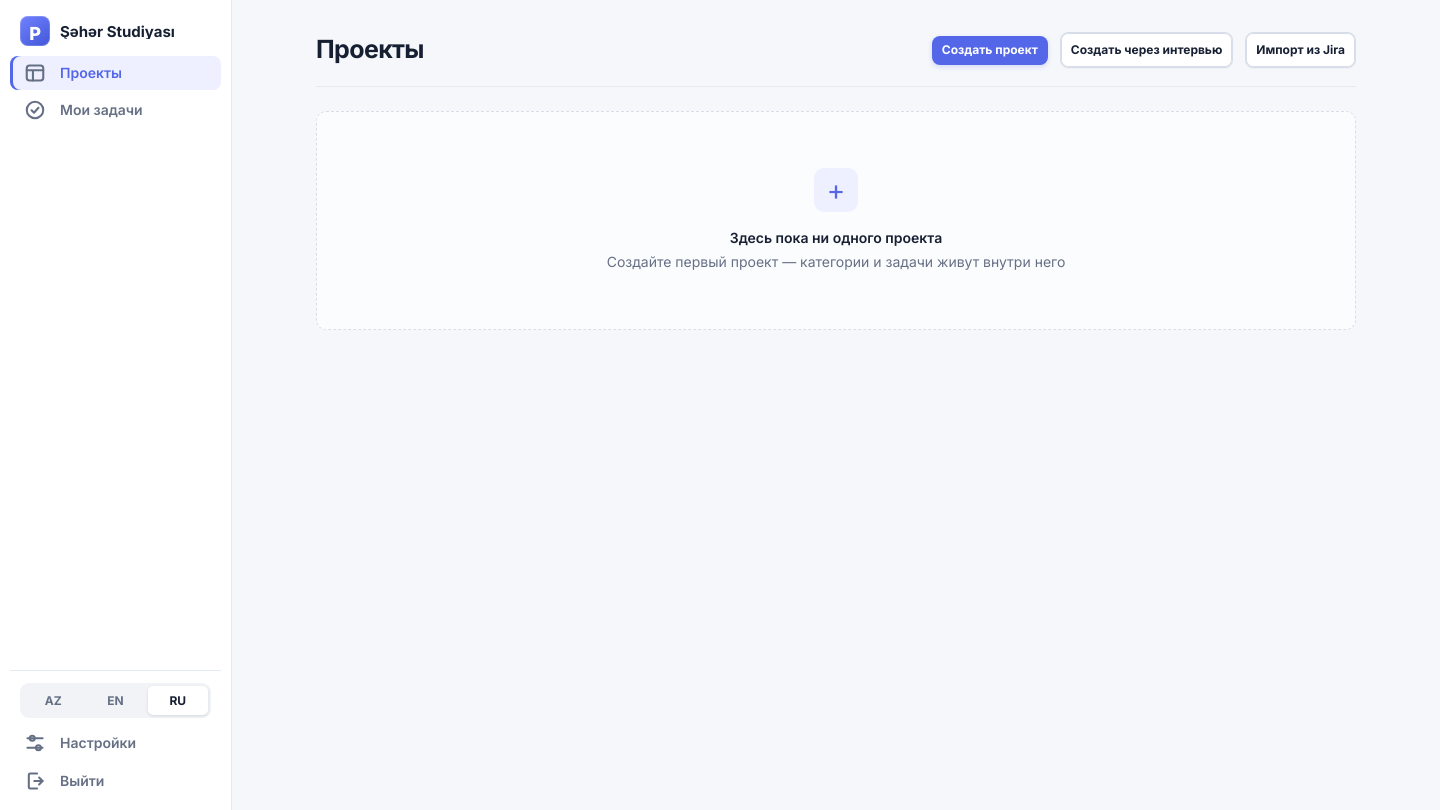
it: модальное окно › закрывается кликом вне окна
Click the button "Создать проект" at (990, 50), box [932,36,1048,64]
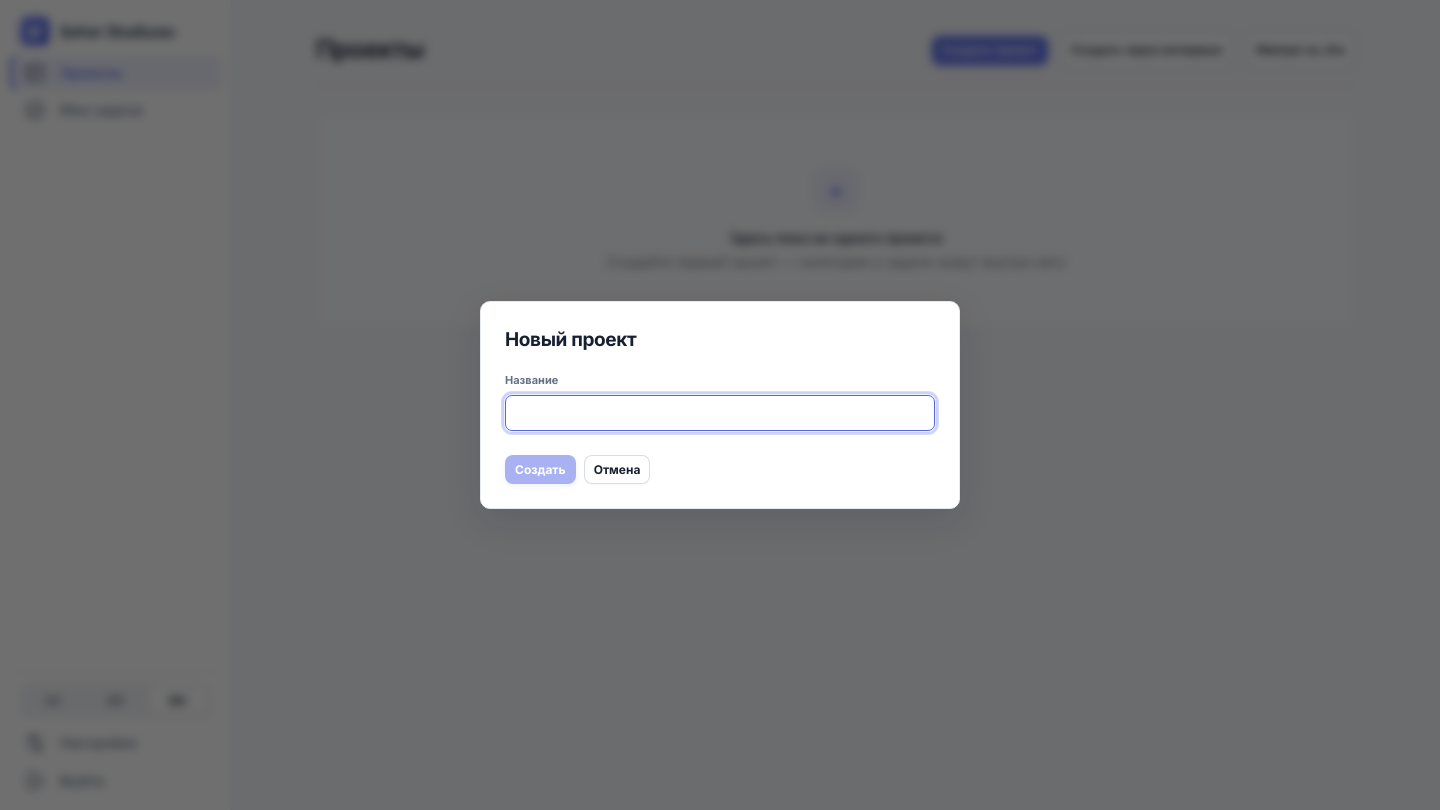
Expected: the dialog is shown, [480,301,960,509]
Click the element with test id "modal-backdrop" at (86, 405), box [0,0,1439,809]
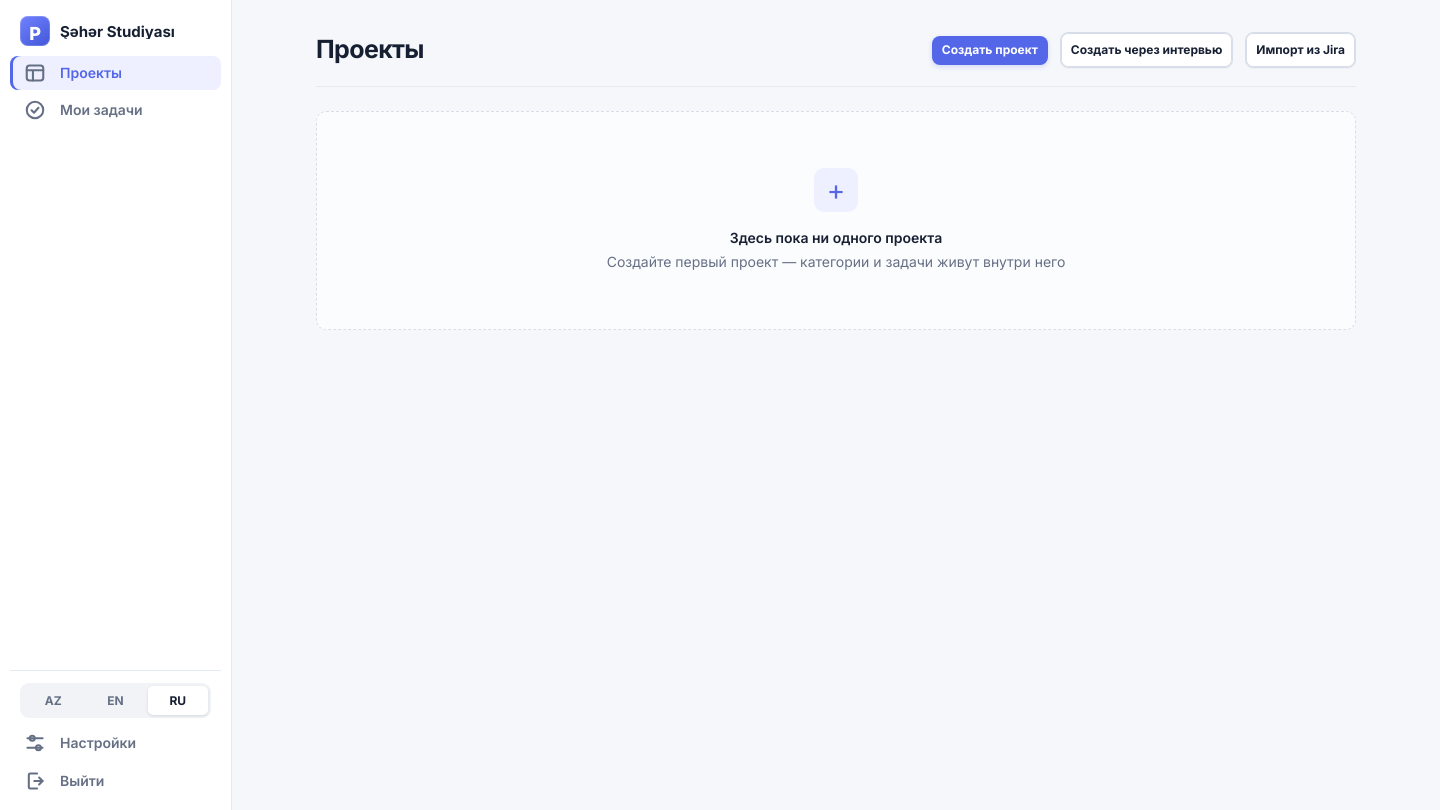
Expected: the dialog is gone
